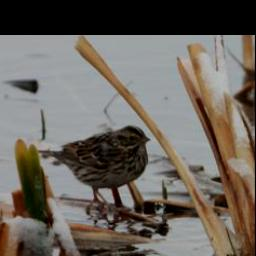Sparrow: (37, 123, 152, 218)
